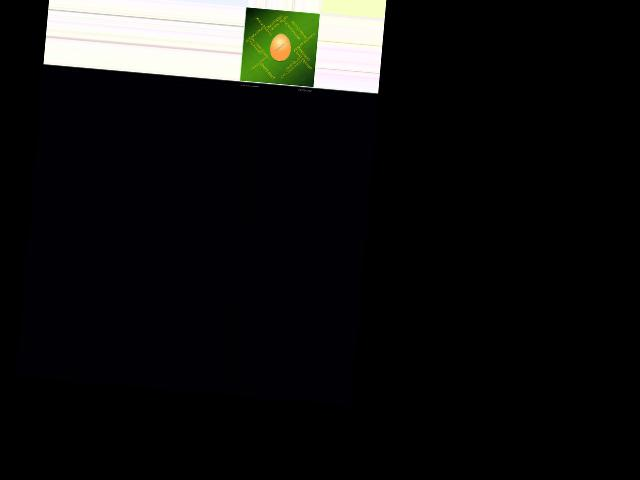egg: (268, 33, 291, 61)
